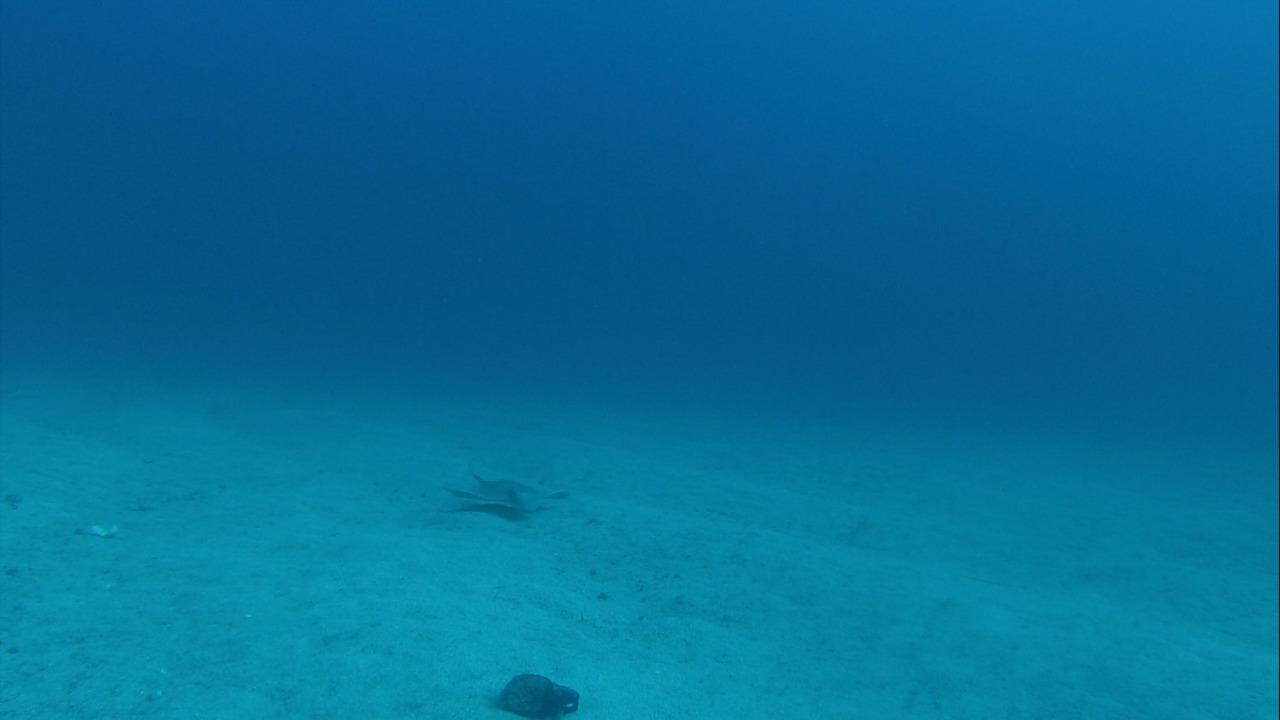myliobatis: (431, 460, 574, 521)
